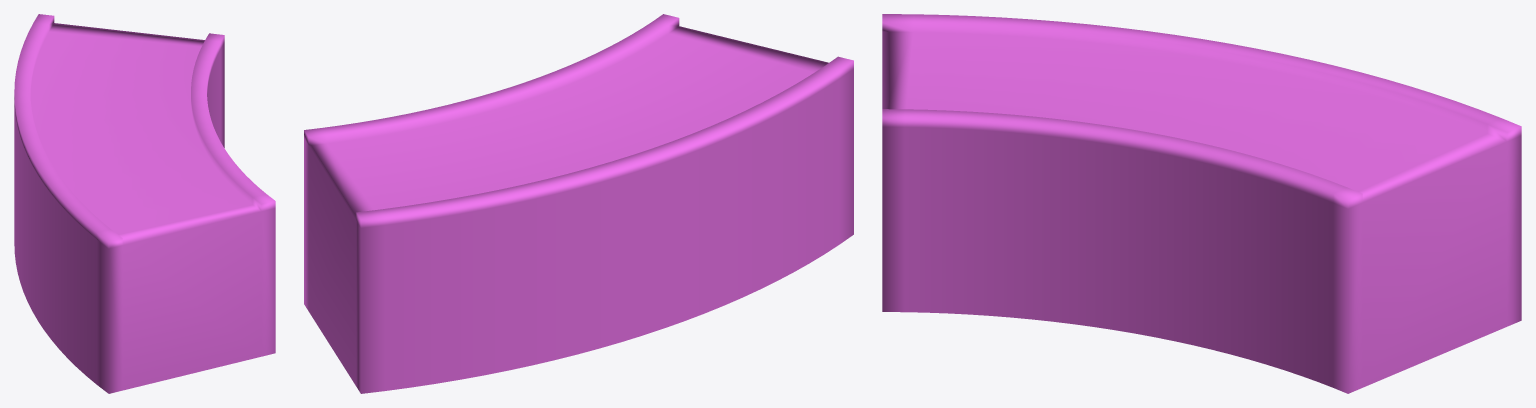
3 views of the same model, side by side, from view 1: azimuth 30°, elevation 25°; view 2: azimuth 150°, elevation 25°; view 3: azimuth 270°, elevation 25° (orthographic). The views are drawn at different scales.
Visible parts, largest first — view 1: Mesh; view 2: Mesh; view 3: Mesh.
Part boxes in pixels (x1,y1,x2,y2): Mesh: (14,14,275,393); Mesh: (304,14,853,393); Mesh: (882,14,1521,393).
Bounding box in the file's own units: 859 × 419 × 1250.
